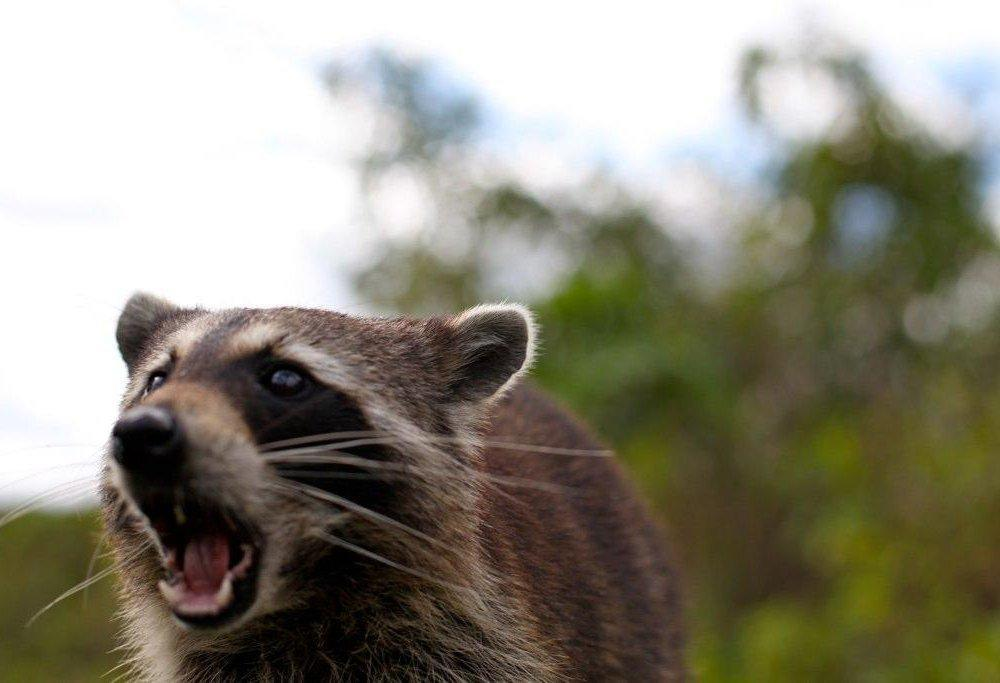raccoon: (76, 285, 701, 683)
